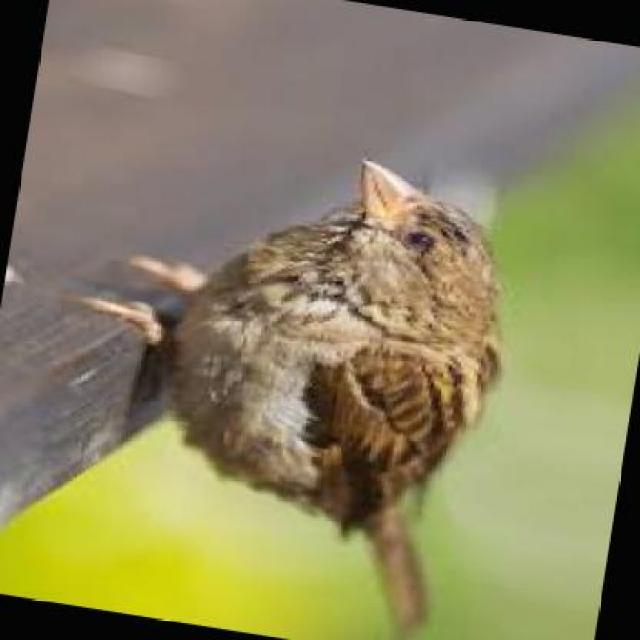Bird: (73, 156, 516, 610)
